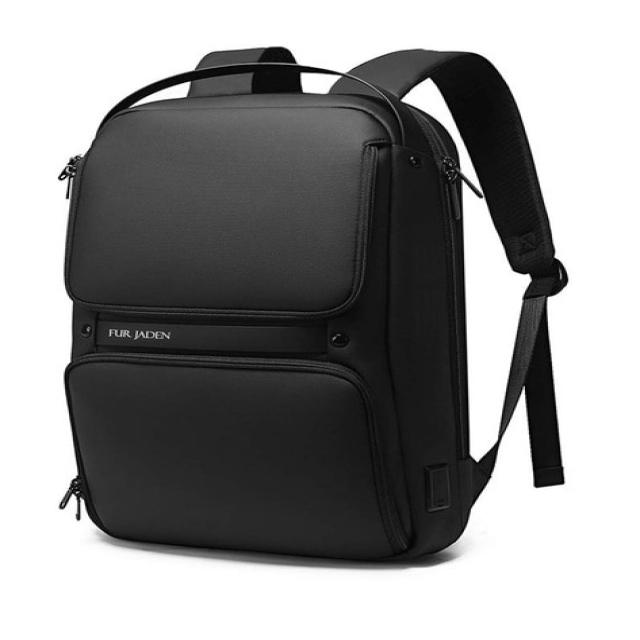backpack: (58, 47, 569, 564)
